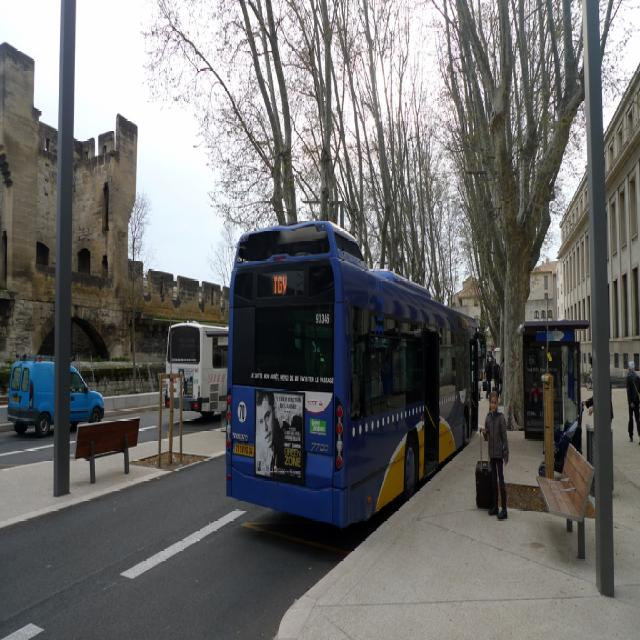Buses: (226, 228, 480, 542), (164, 311, 227, 423)
MiniBus taxi: (9, 354, 103, 434)
Pedestrians: (484, 390, 510, 518), (624, 354, 640, 446)
